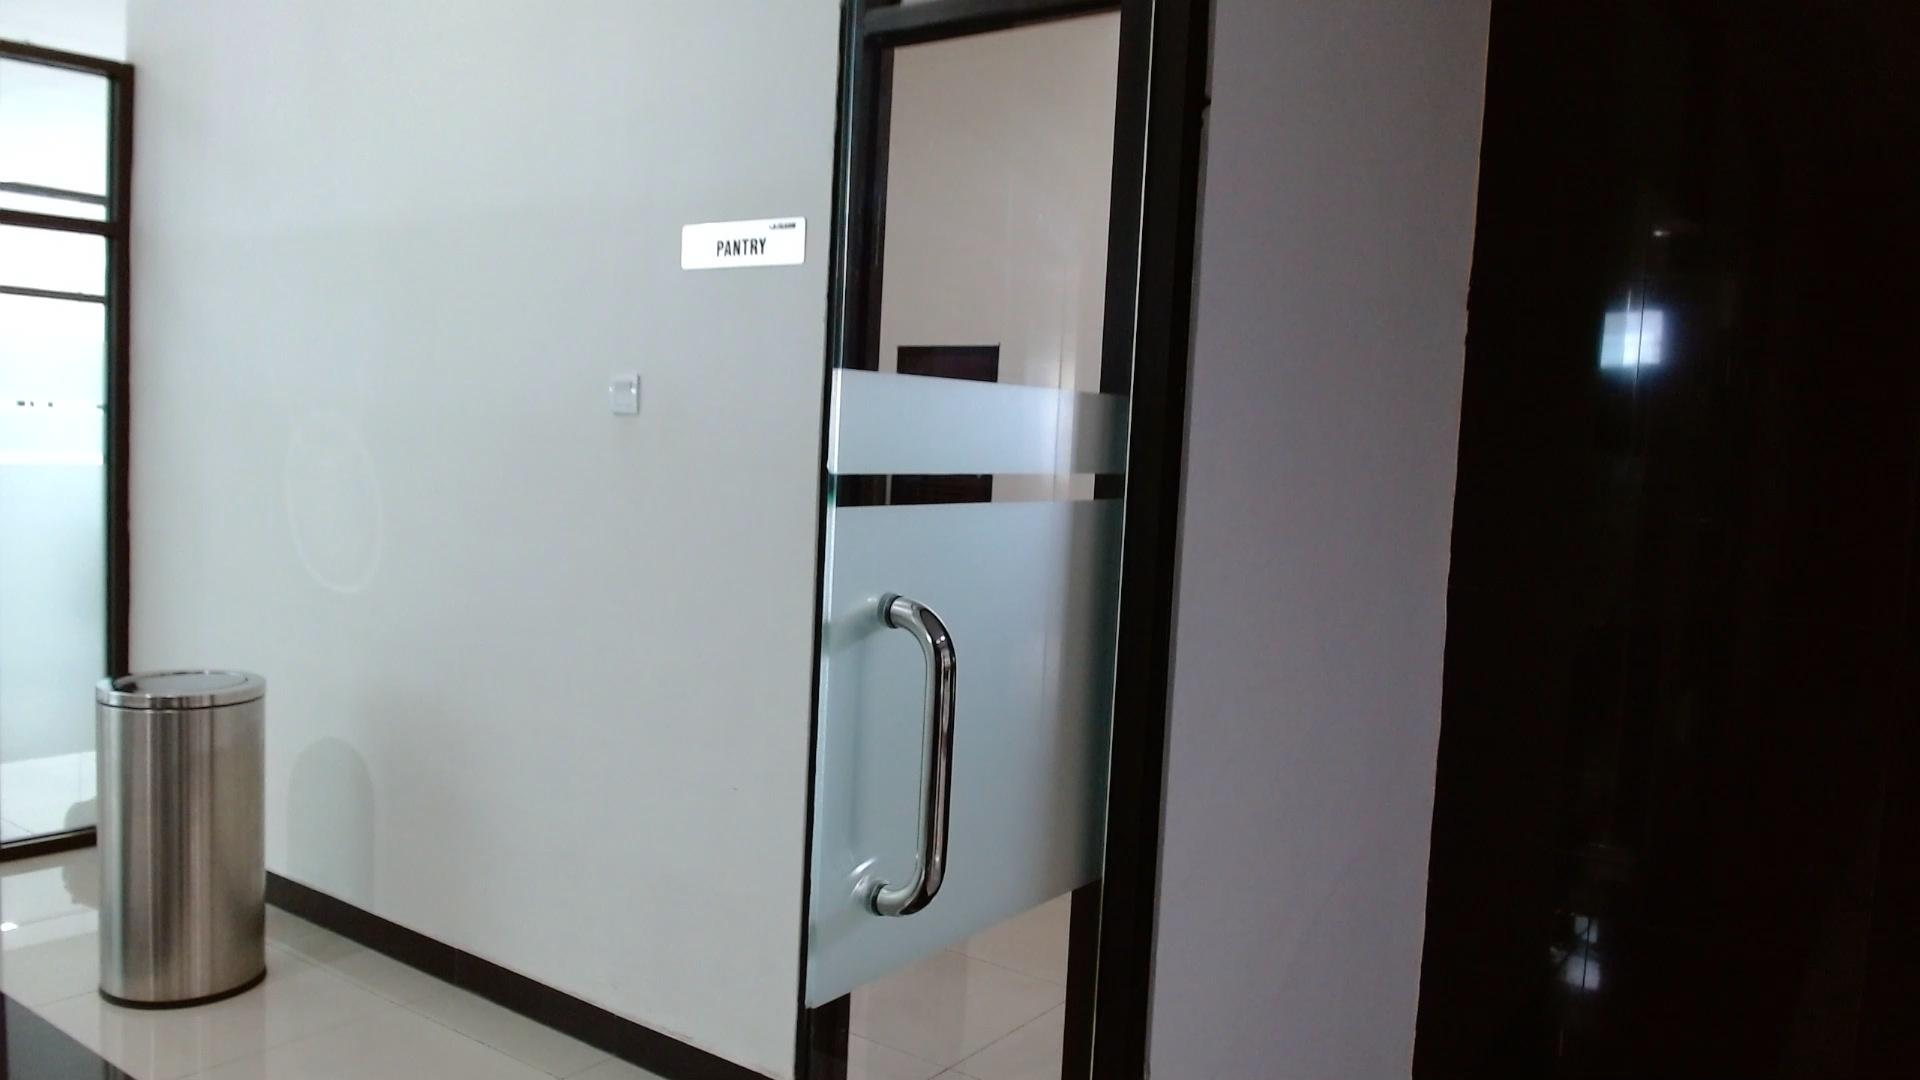plate: (682, 215, 806, 270)
